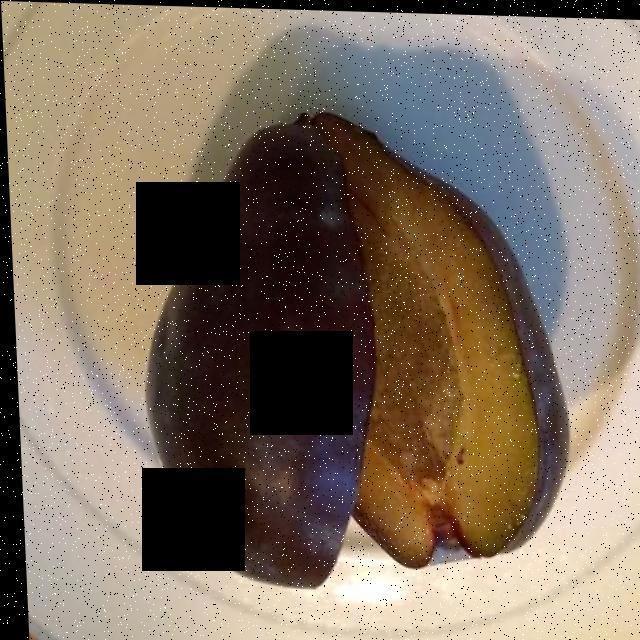plums: (179, 79, 557, 572)
